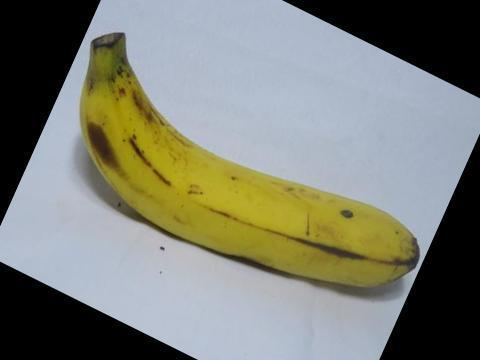ripe: (66, 24, 428, 300)
